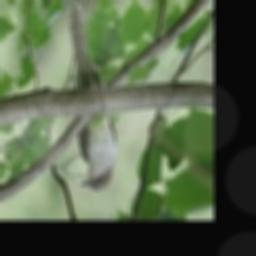Cuckoo: (70, 3, 118, 191)
